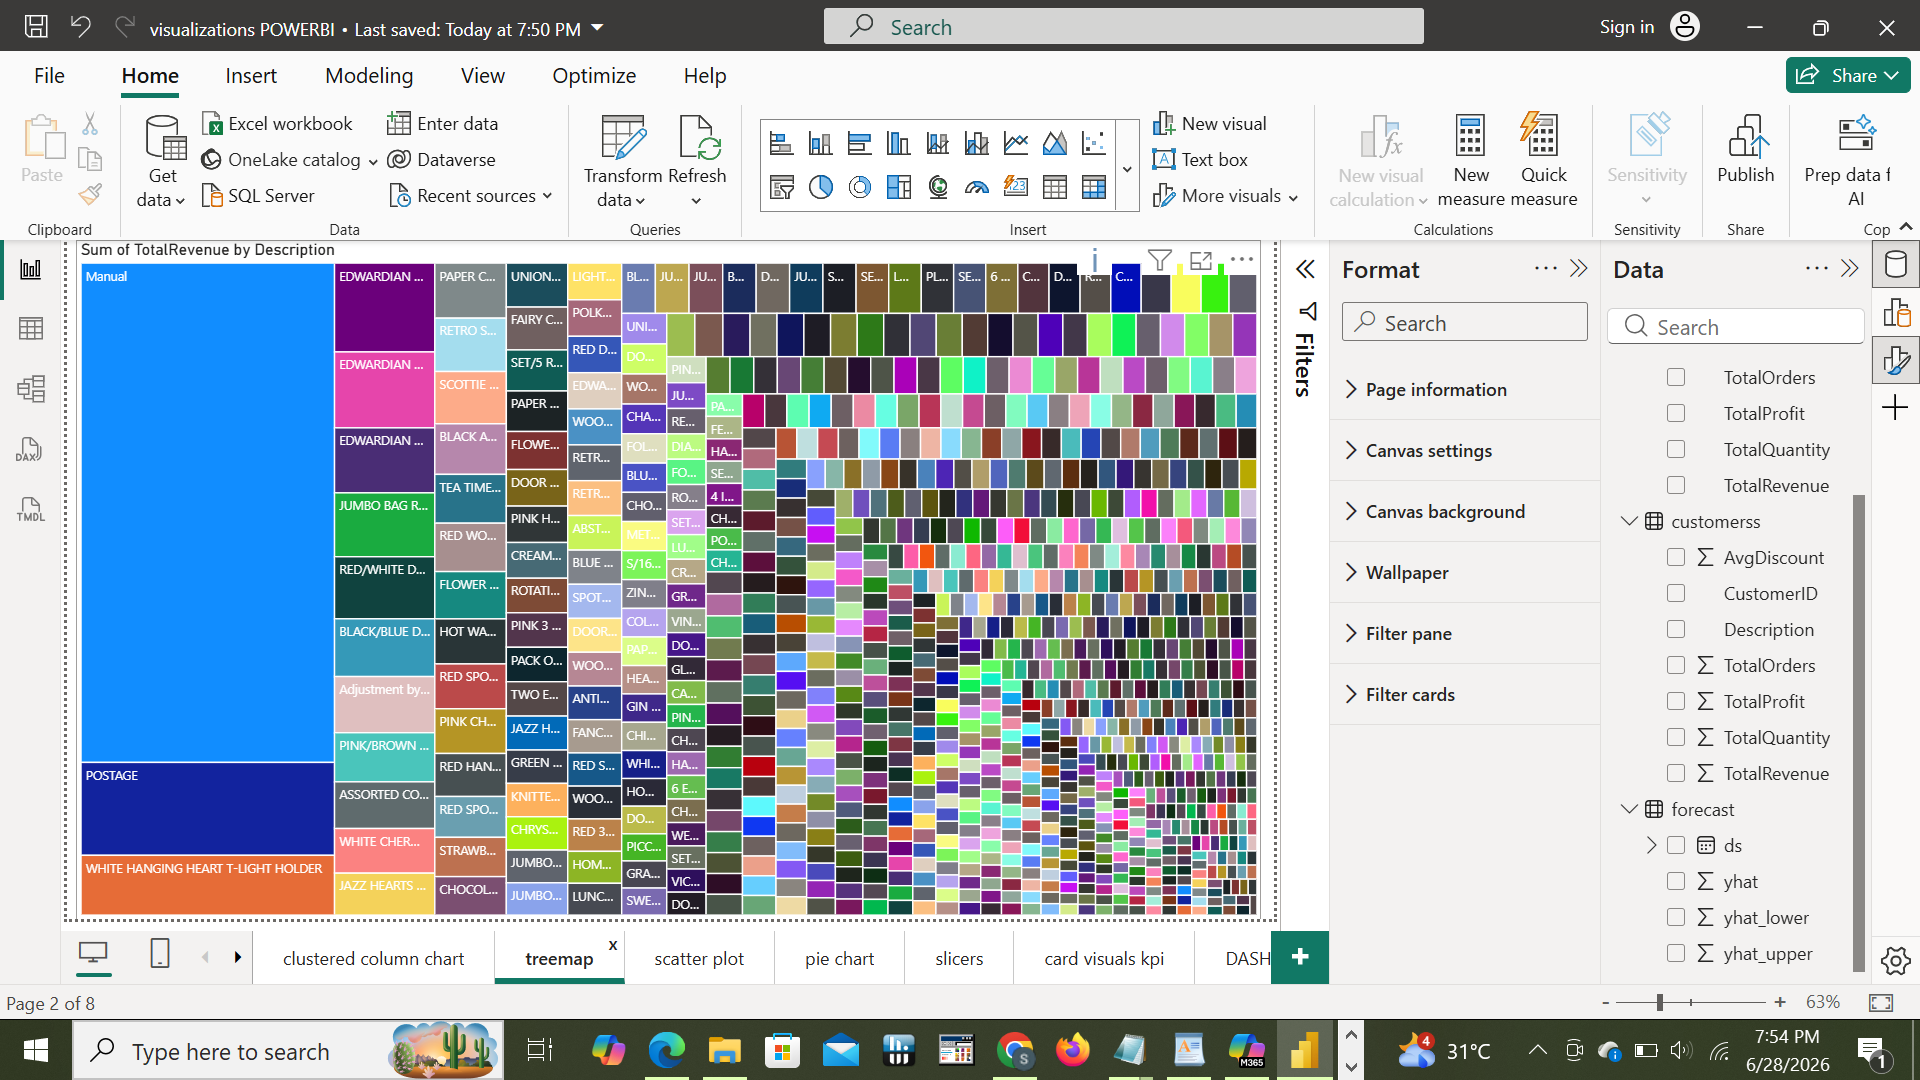

The dashboard page shown, as its layout file describes it:
{"tool":"powerbi","page":{"name":"treemap","canvas":[1280,720],"ordinal":1},"visuals":[{"type":"treemap","fields":{"Group":["customerss.Description"],"Values":["Sum(customerss.TotalRevenue)"]},"box":[9.3,0,1256.8,720.6],"z":0}]}

Visuals, with their boxes on the page's 1280x720 design canvas (x1, y1, x2, y2). These are canvas units, not pixel positions in the 1920x1080 screenshot, which may show the page scaled, cropped or inside an application window:
treemap - customerss.Description x Sum(customerss.TotalRevenue): bbox=(9, 0, 1266, 721)
